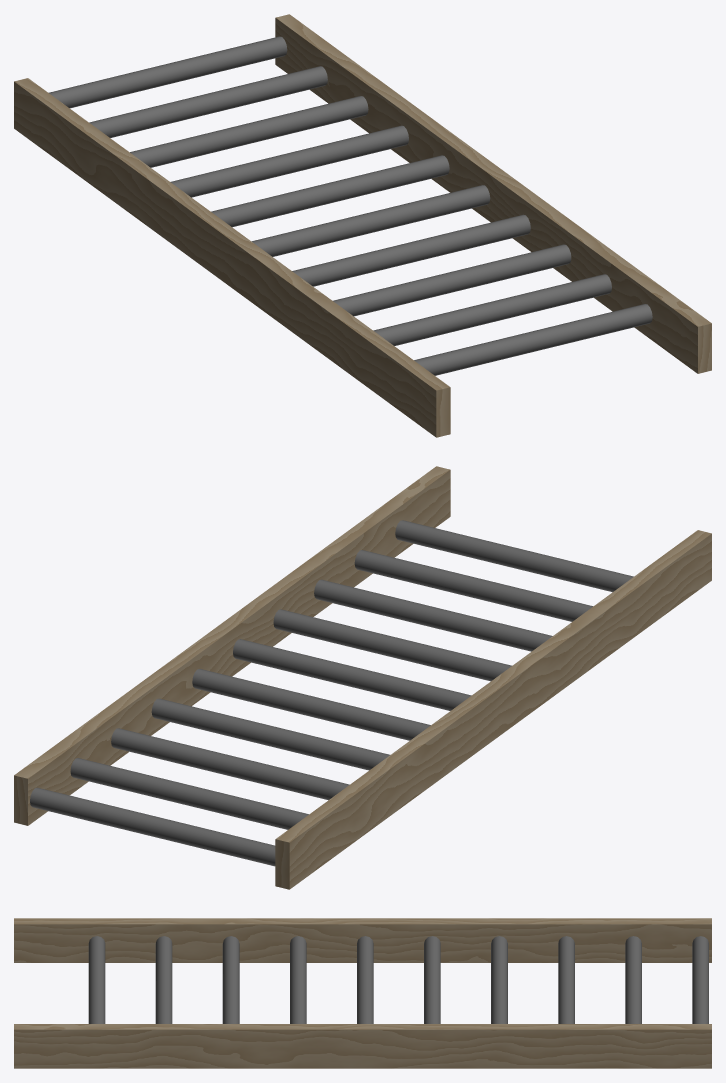
3 renders of one model, top to bottom at view 1: azimuth 30°, elevation 25°; view 2: azimuth 150°, elevation 25°; view 3: azimuth 270°, elevation 25°, orthographic. The views are drawn at different scales.
Parts seen in each view (by area): view 1: Circle; view 2: Circle; view 3: Circle.
Part boxes in pixels (box(x1,y1,x2,y2)): Circle: box(14, 14, 711, 437); Circle: box(14, 466, 711, 889); Circle: box(14, 918, 711, 1068).
Size of the model in its own units: 97.93 by 16 by 260.
